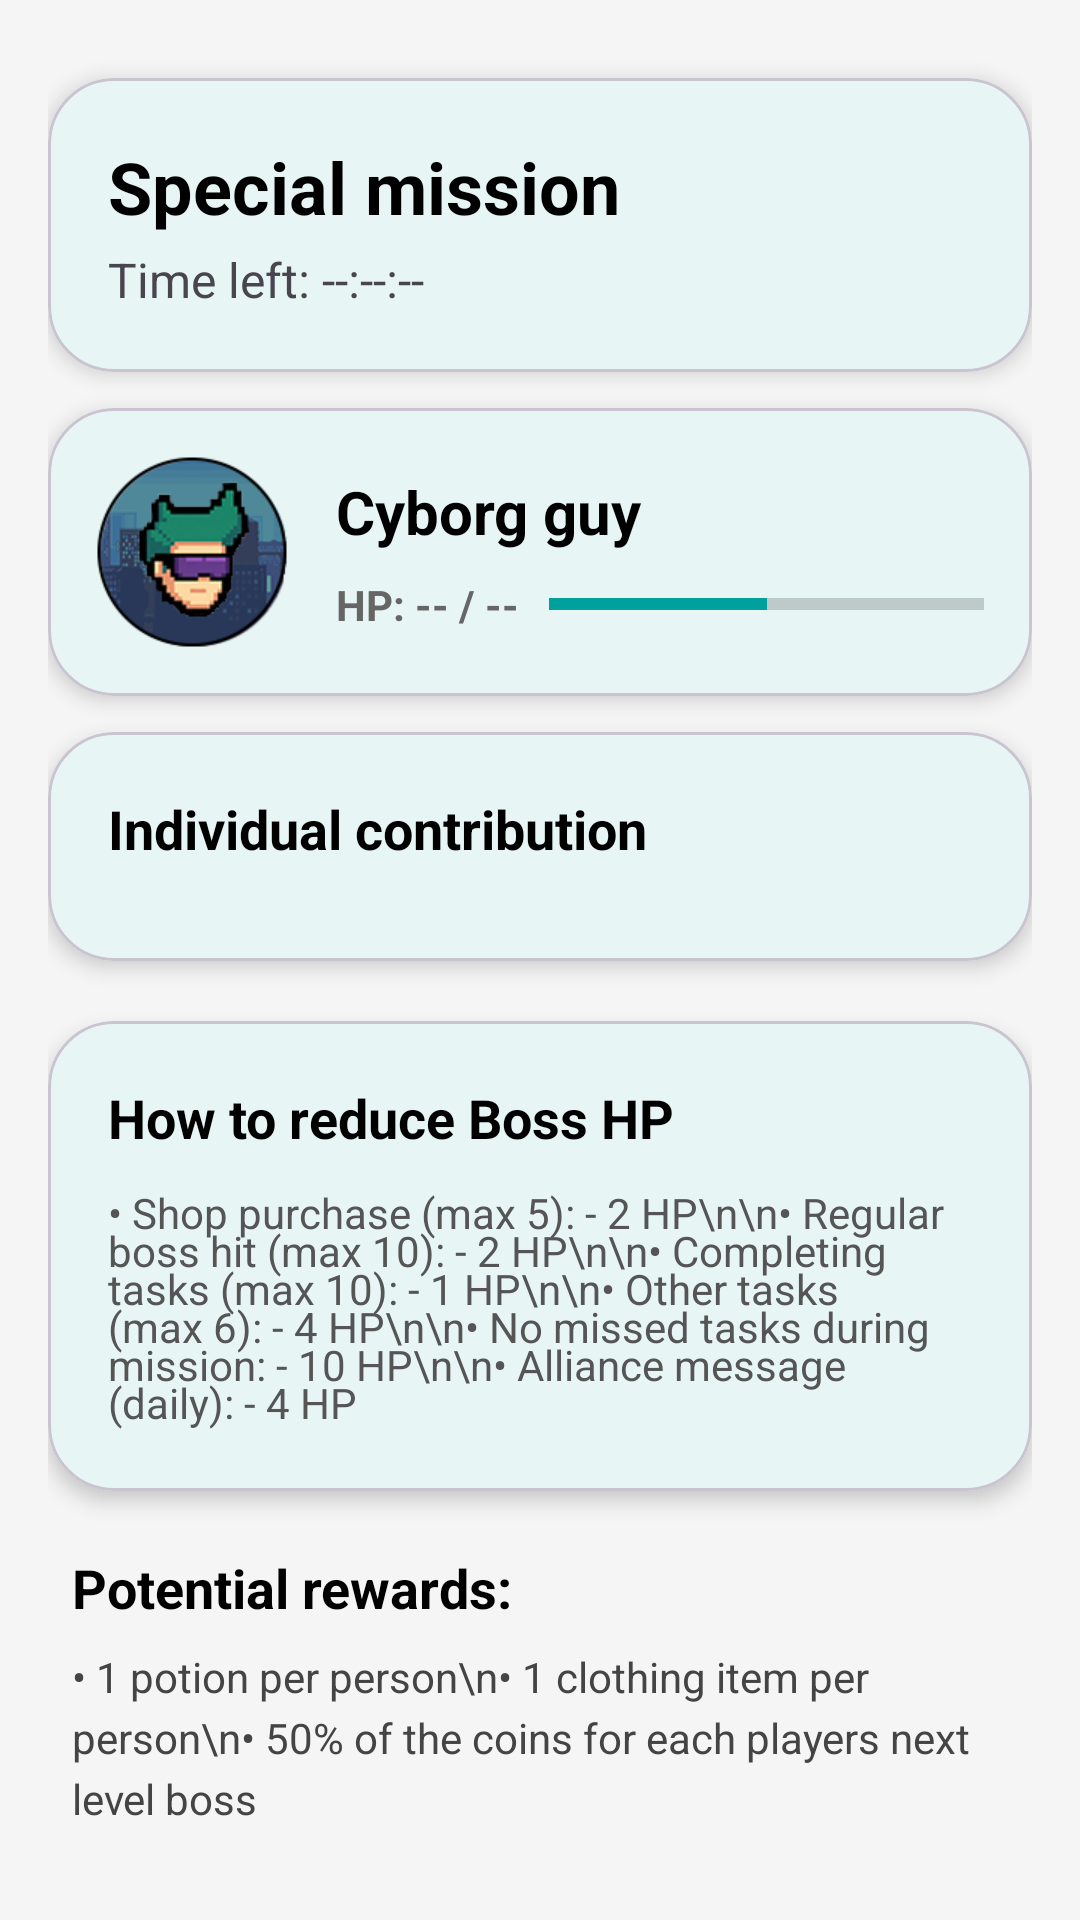

Where icons sit on this 1080px×1920px app screen, as Rect(x1, y1, x2, y2):
boss profile: Rect(97, 457, 287, 647)
